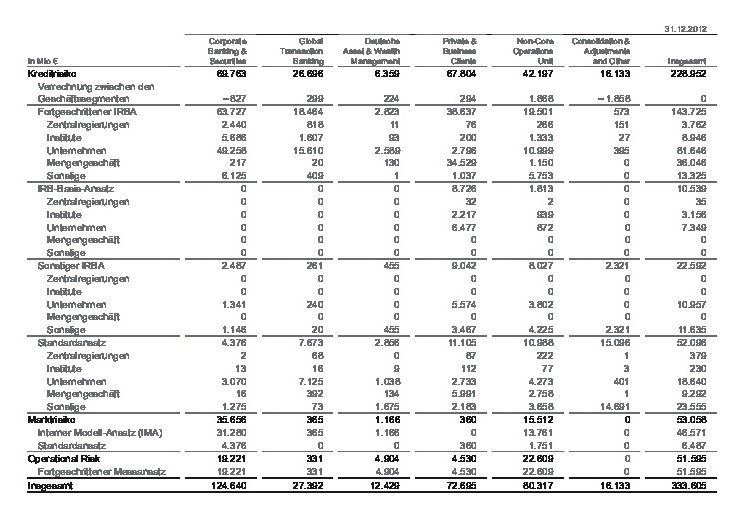table: (0, 0, 739, 508)
